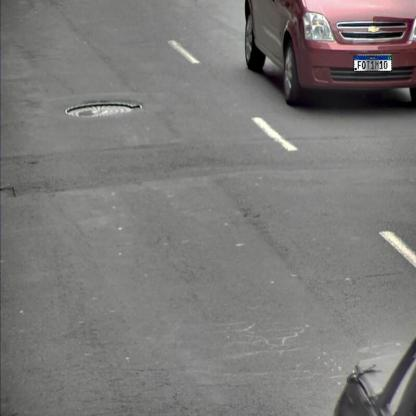PlacaM: (354, 56, 392, 72)
